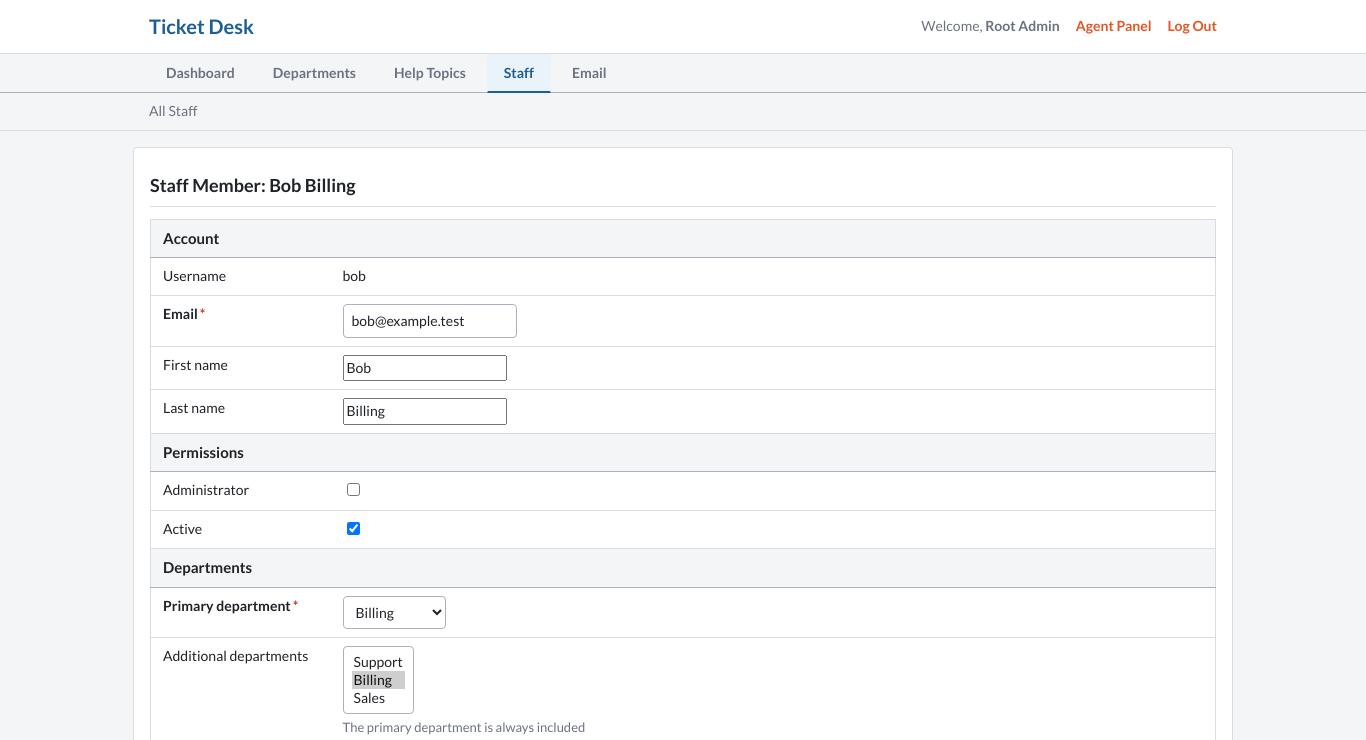
Scenario: edit shows username read-only, seeds fields, sends only changes, and stays
Expected: the heading "Staff Member: Bob Billing" is shown, top-left (150, 172), bottom-right (356, 198)
Expected: the text "bob" is shown, top-left (342, 267), bottom-right (366, 284)
Click the checkbox labelled "Active": click(353, 528) top-left (346, 522), bottom-right (360, 535)
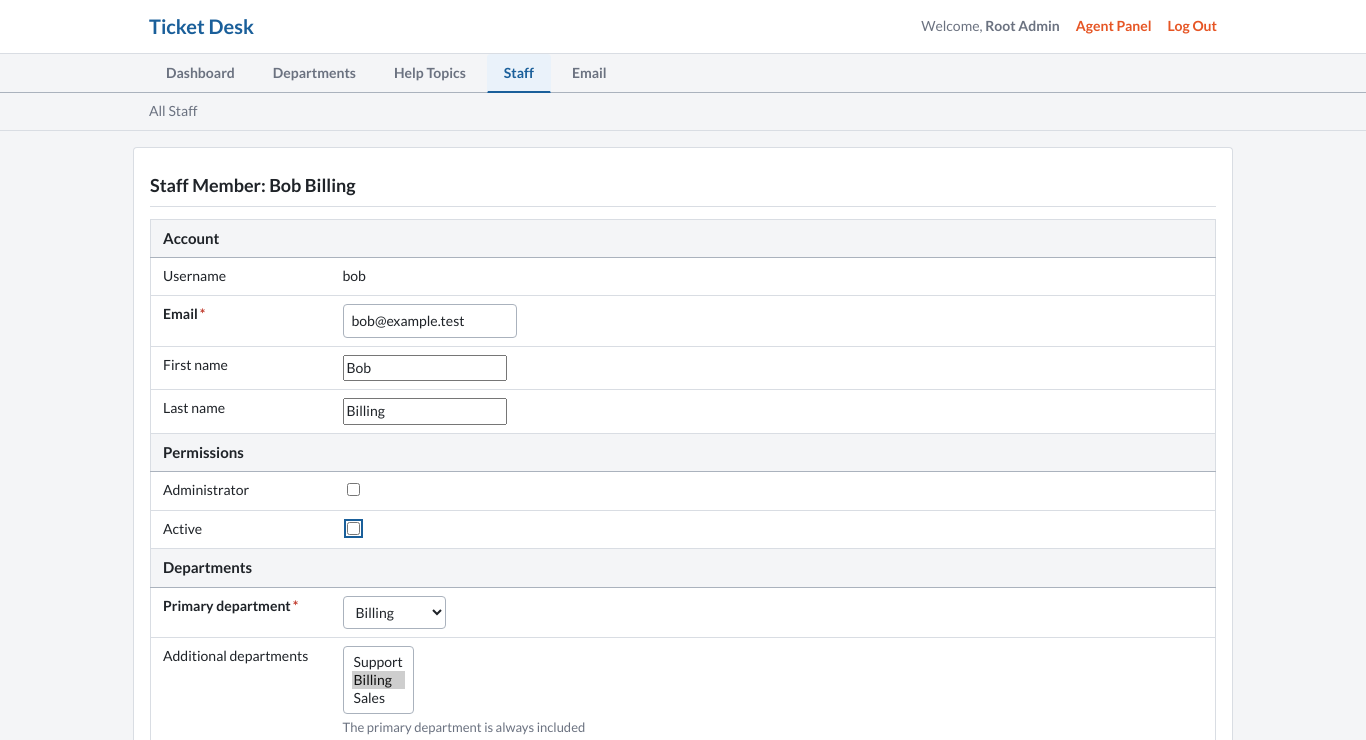
Select "Support" in the dropdown labelled "Additional departments": (378, 680) top-left (342, 646), bottom-right (414, 714)
(page scrolled)
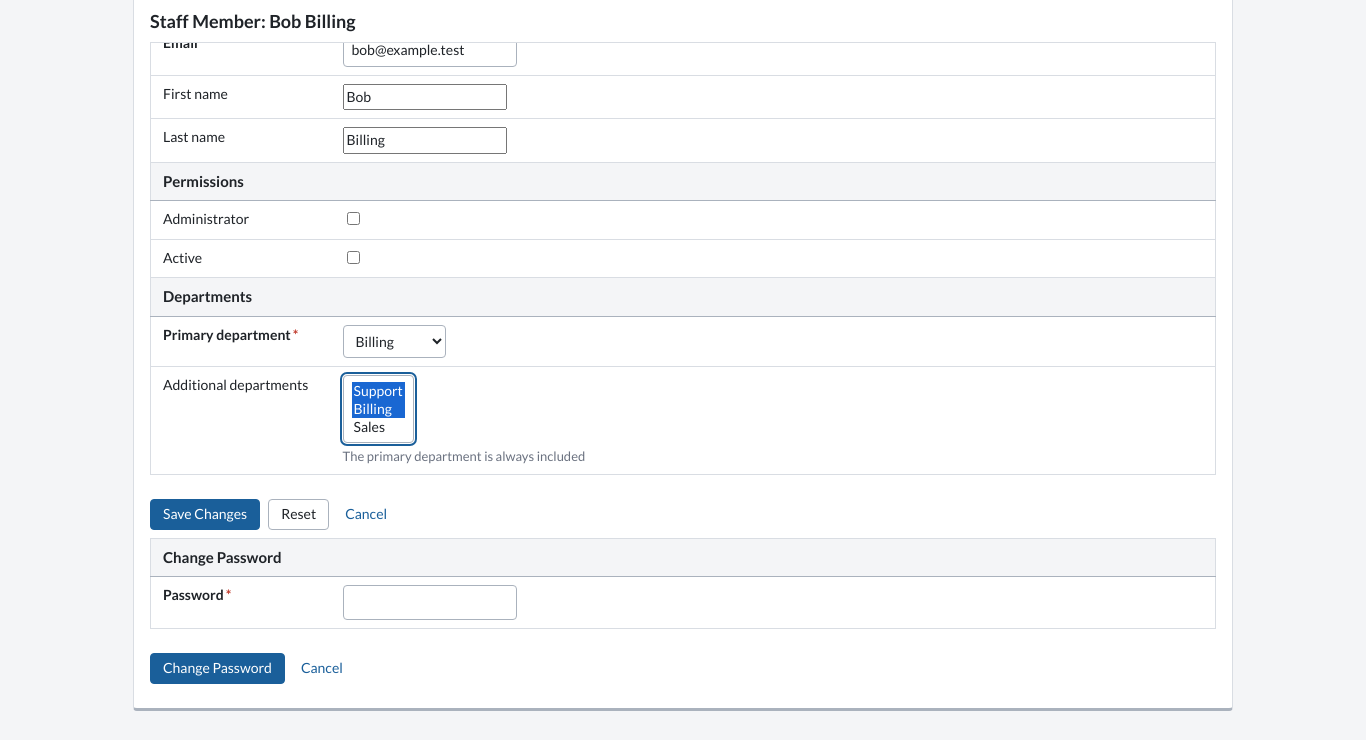
Click the button "Save Changes": click(205, 514) top-left (150, 499), bottom-right (260, 530)
(page scrolled)
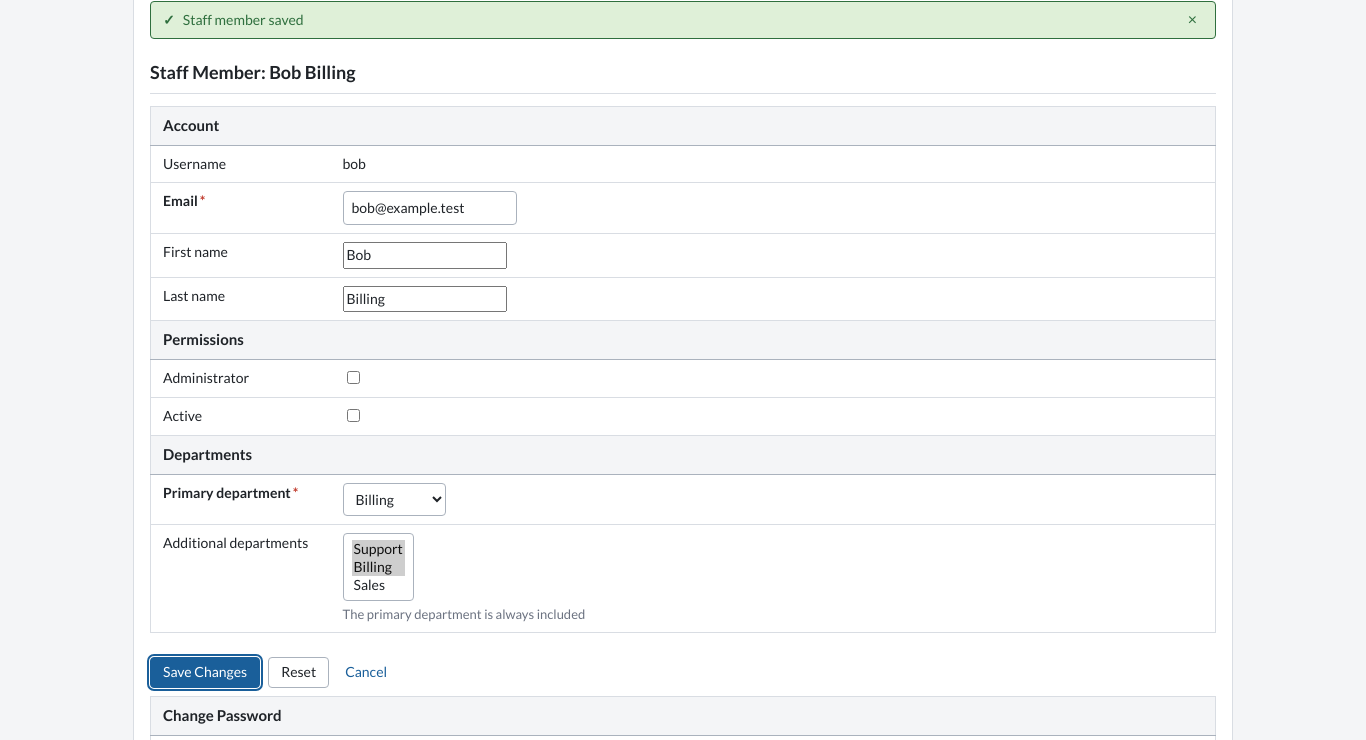
Expected: the heading "Staff Member: Bob Billing" is shown, top-left (150, 59), bottom-right (356, 85)
Result: the message shows "Staff member saved" at top-left (183, 11), bottom-right (304, 28)
